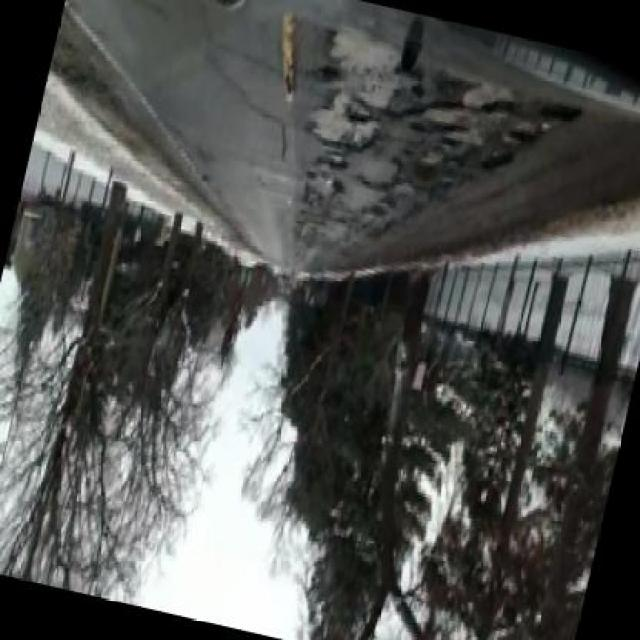pothole1: (537, 94, 581, 134), (478, 143, 516, 182), (407, 119, 458, 146), (312, 152, 348, 176), (396, 43, 422, 75), (345, 104, 372, 130)
